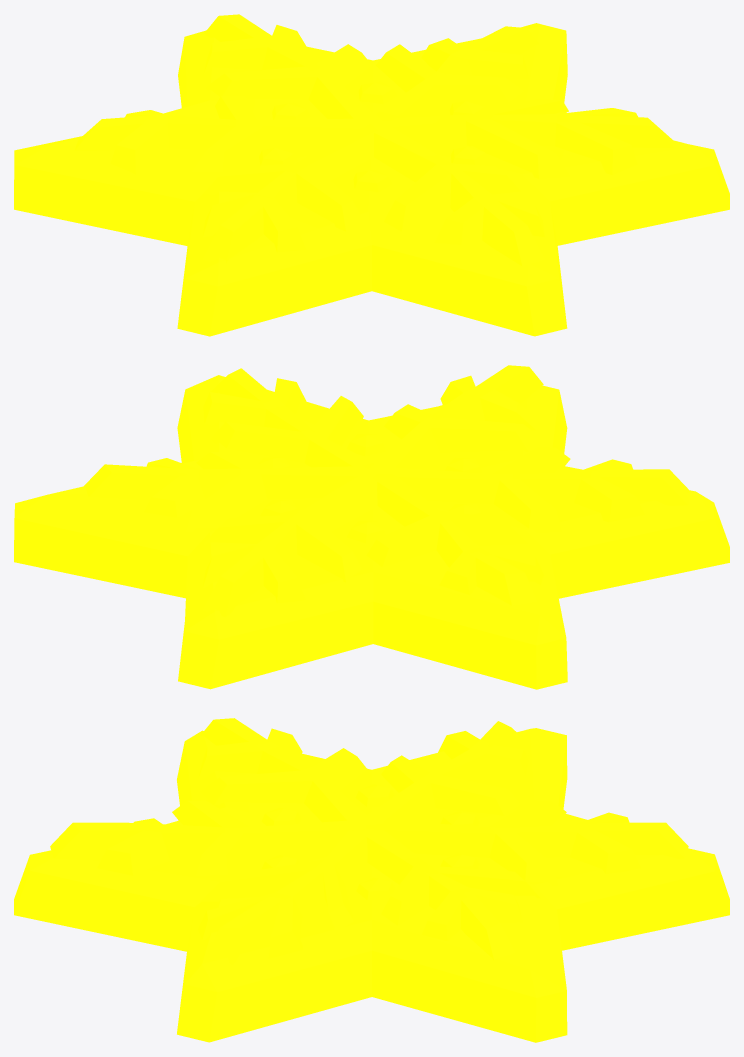
File: gingerbread-snowflake.glb
3 renders of one model, top to bottom at view 1: azimuth 30°, elevation 25°; view 2: azimuth 150°, elevation 25°; view 3: azimuth 270°, elevation 25°, orthographic.
Visible parts, largest first — view 1: gingerbread_snowflake; view 2: gingerbread_snowflake; view 3: gingerbread_snowflake.
Boxes of the visible parts, x1,y1,x2,y2 form: gingerbread_snowflake: (14, 14, 729, 336); gingerbread_snowflake: (14, 365, 729, 689); gingerbread_snowflake: (14, 718, 729, 1042).
Bounding box in the file's own units: 0.0898 × 0.0127 × 0.1003.
Materials: 1 (1 with a texture image).
